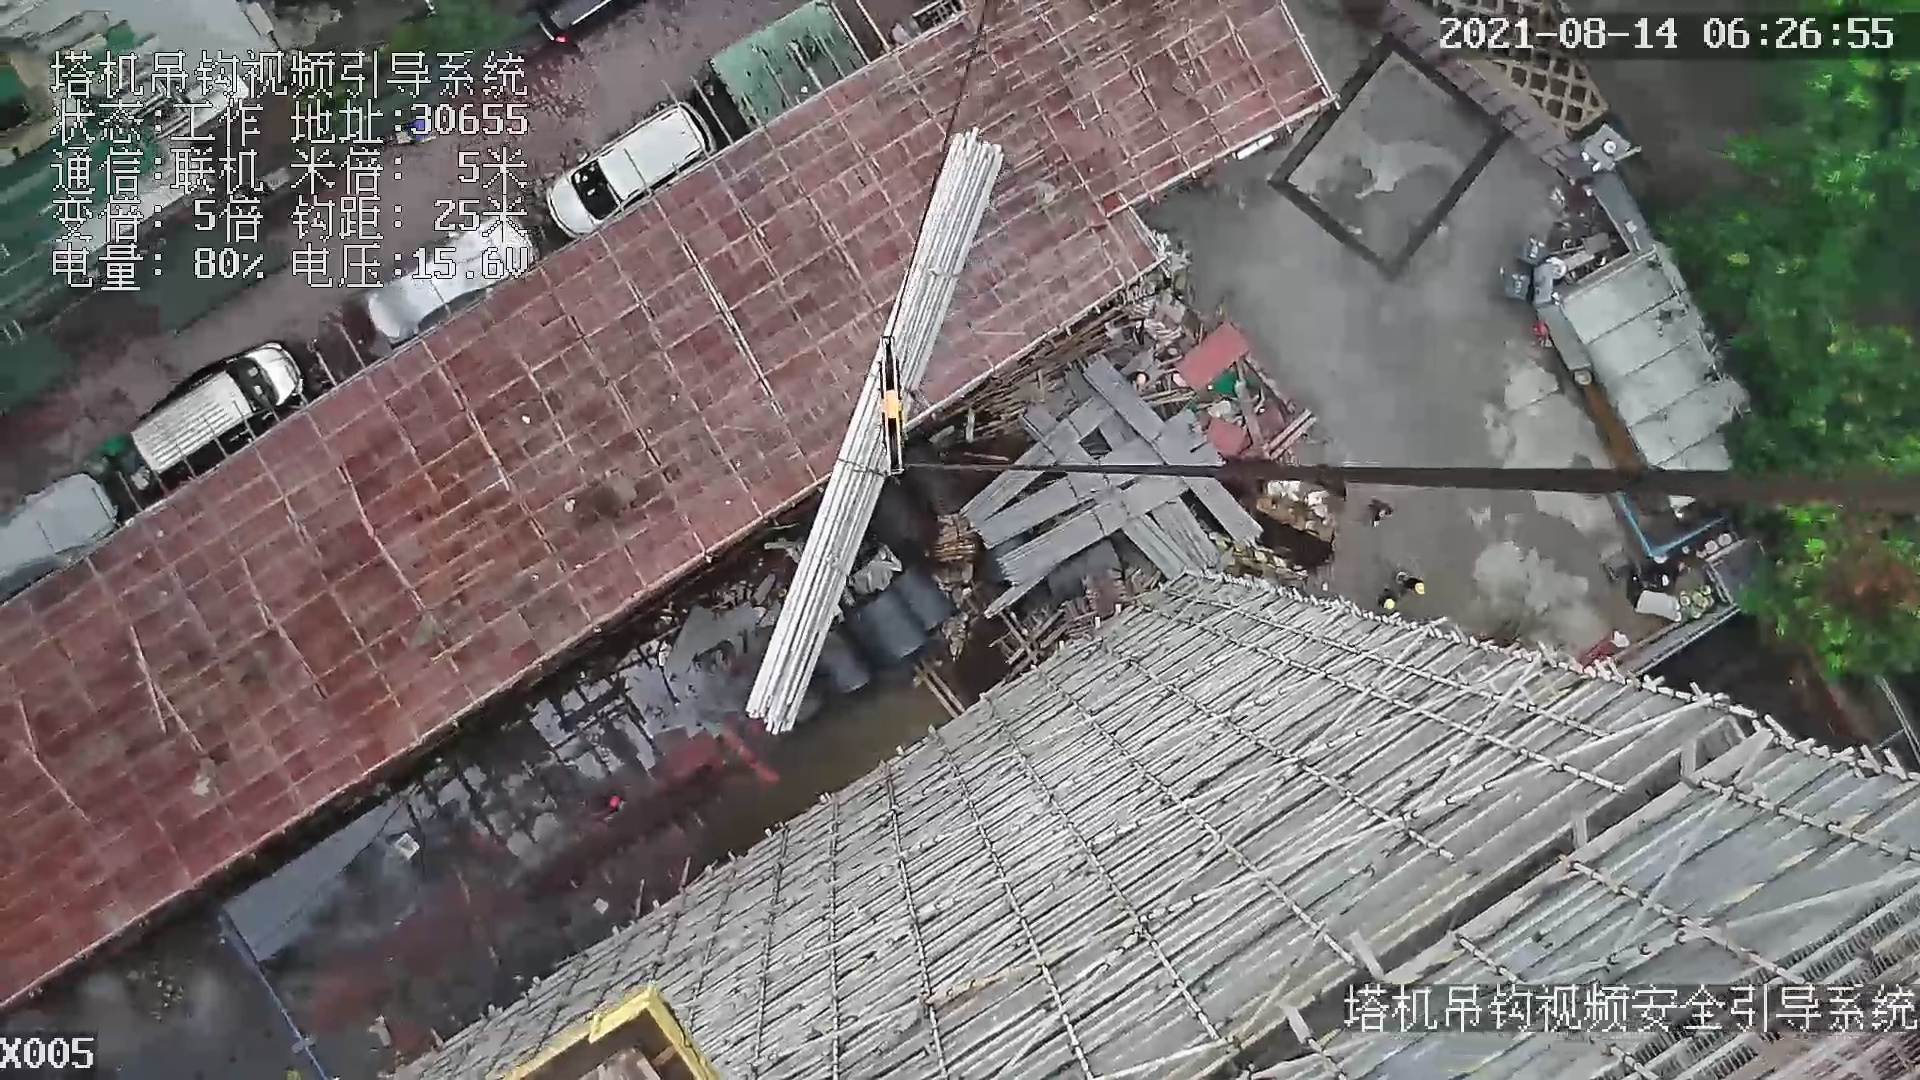helmet: (1384, 598, 1396, 609), (1414, 581, 1425, 593)
hook: (878, 332, 927, 480)
person: (1392, 571, 1429, 594), (1383, 587, 1400, 608)
